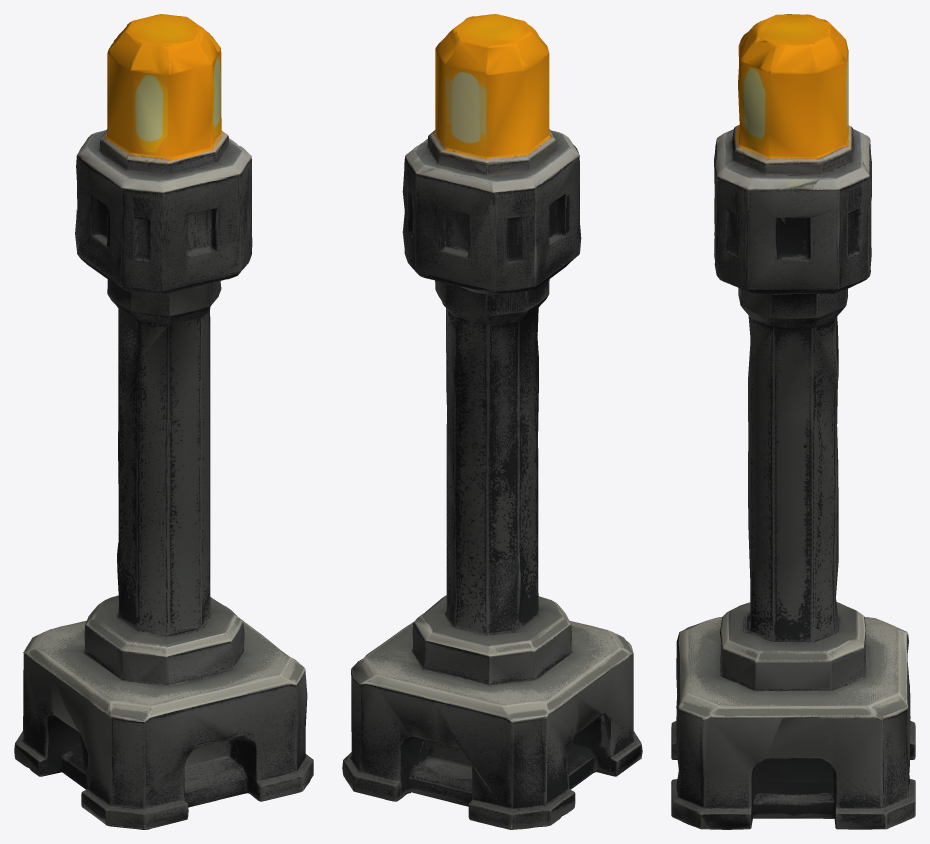
Rendered from 25_debris_beacon_pole.fbx.
The picture shows the model from 3 angles, left to right: view 1: azimuth 30°, elevation 25°; view 2: azimuth 150°, elevation 25°; view 3: azimuth 270°, elevation 25°; orthographic projection.
Parts seen in each view (by area): view 1: 25_debris_beacon_pole; view 2: 25_debris_beacon_pole; view 3: 25_debris_beacon_pole.
Part boxes in pixels (bbox=[...]): 25_debris_beacon_pole: bbox=[14, 14, 313, 829]; 25_debris_beacon_pole: bbox=[342, 14, 642, 829]; 25_debris_beacon_pole: bbox=[671, 14, 915, 829].
Size of the model in its own units: 0.2364 by 0.8 by 0.2365.
1 material, 1 textured.
